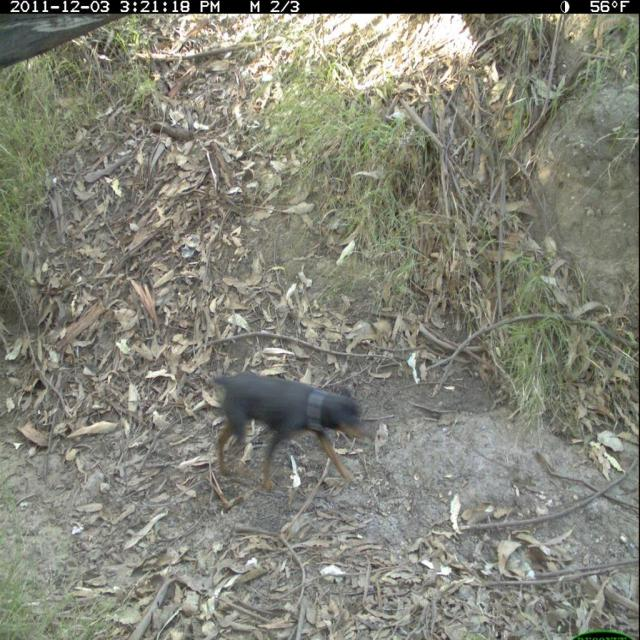dog: (201, 359, 376, 498)
